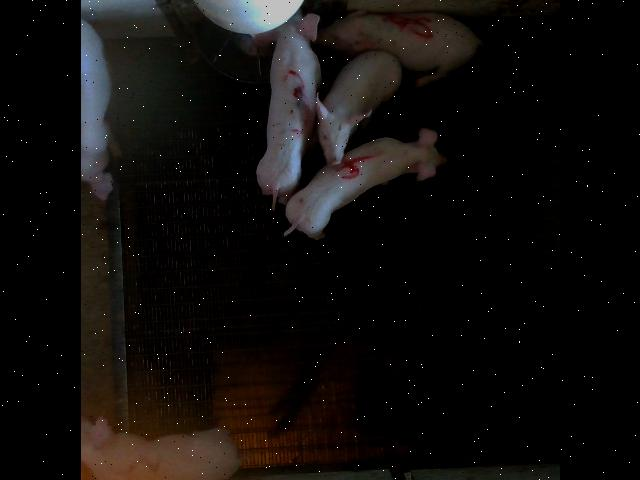pig-2: (81, 419, 240, 480)
pig-3: (256, 15, 320, 206)
pig-4: (284, 129, 445, 239)
pig-5: (316, 11, 482, 88)
